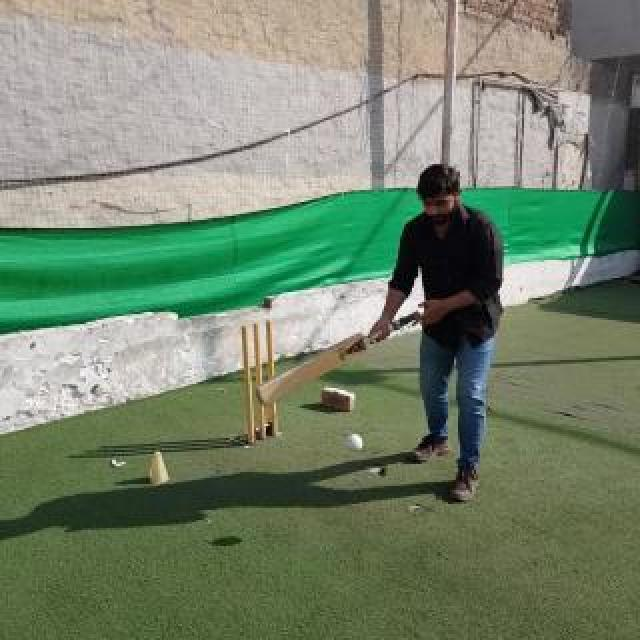ball: (345, 434, 365, 452)
bat: (256, 311, 424, 407)
